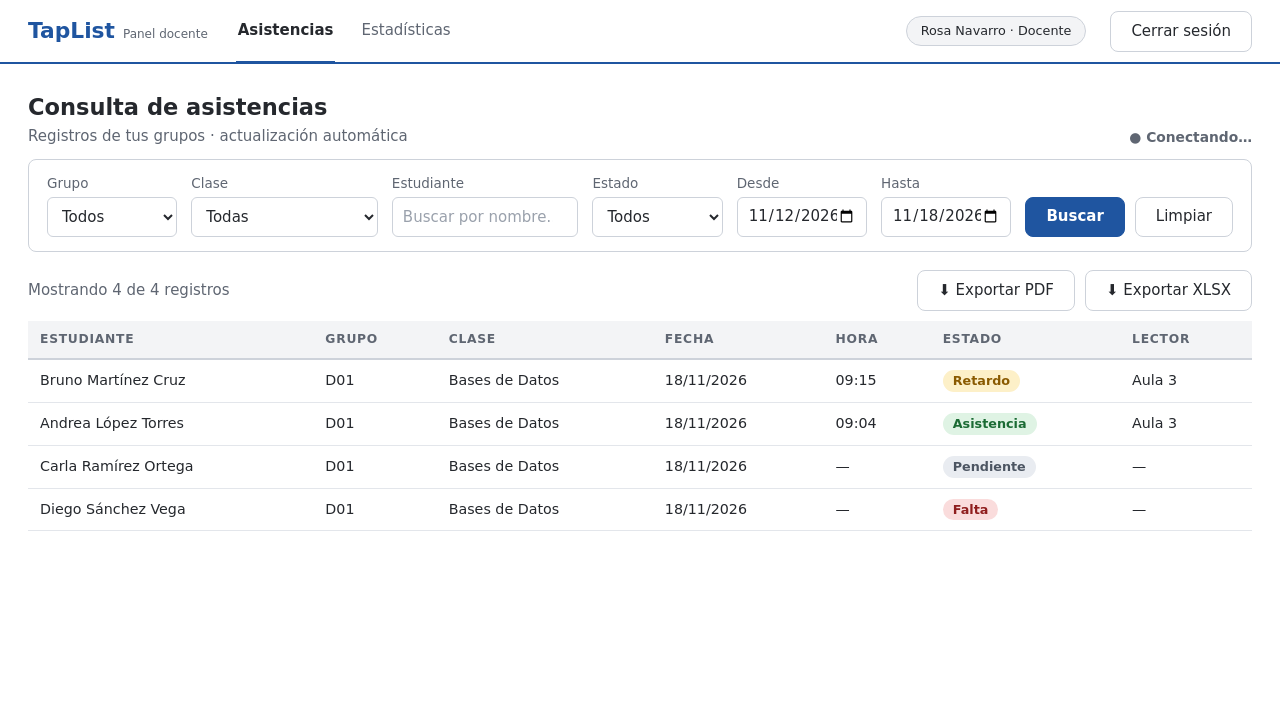
Test: P2 · Consulta de asistencias › «Hasta» antes que «Desde»: avisa y no consulta
Expected: the text "Mostrando 4 de 4 registros" is shown, x1=28 y1=280 x2=230 y2=301
Step 1. Type "2026-11-01" into the date field labelled "Hasta" → (946, 217), box x1=881 y1=197 x2=1011 y2=237
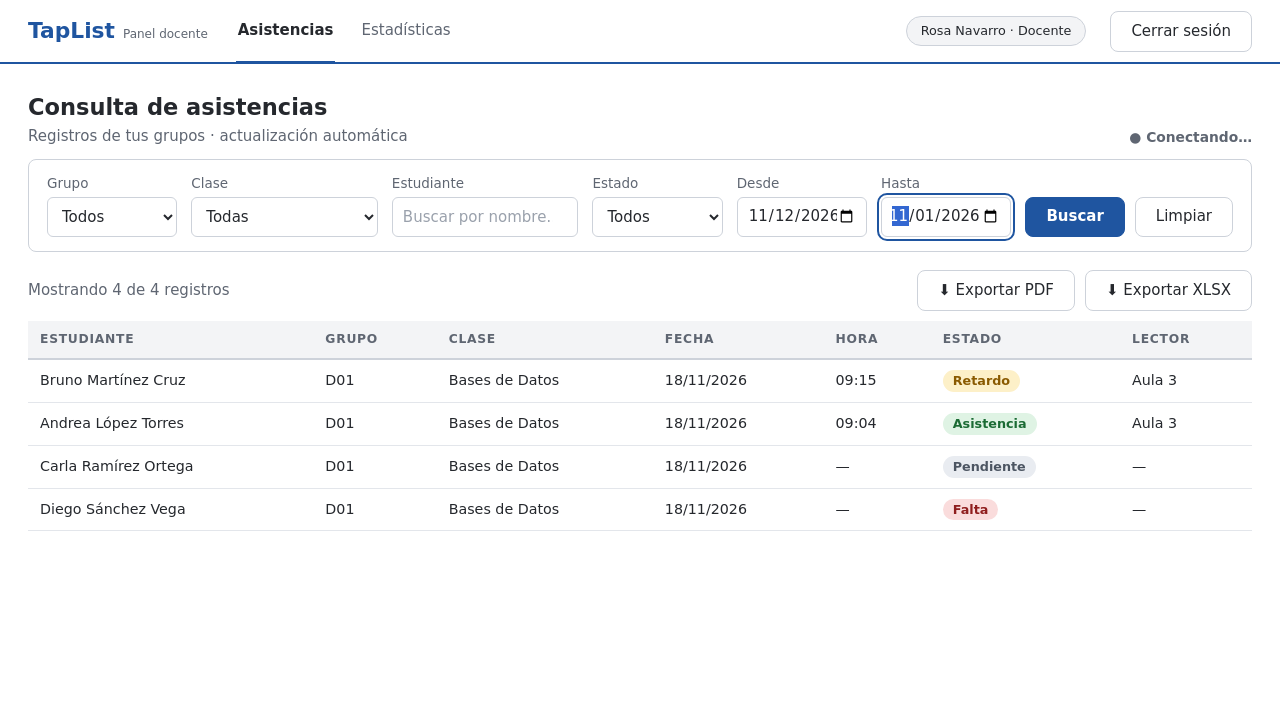
Step 2. Click the button "Buscar" → (1075, 217), box x1=1025 y1=197 x2=1125 y2=237
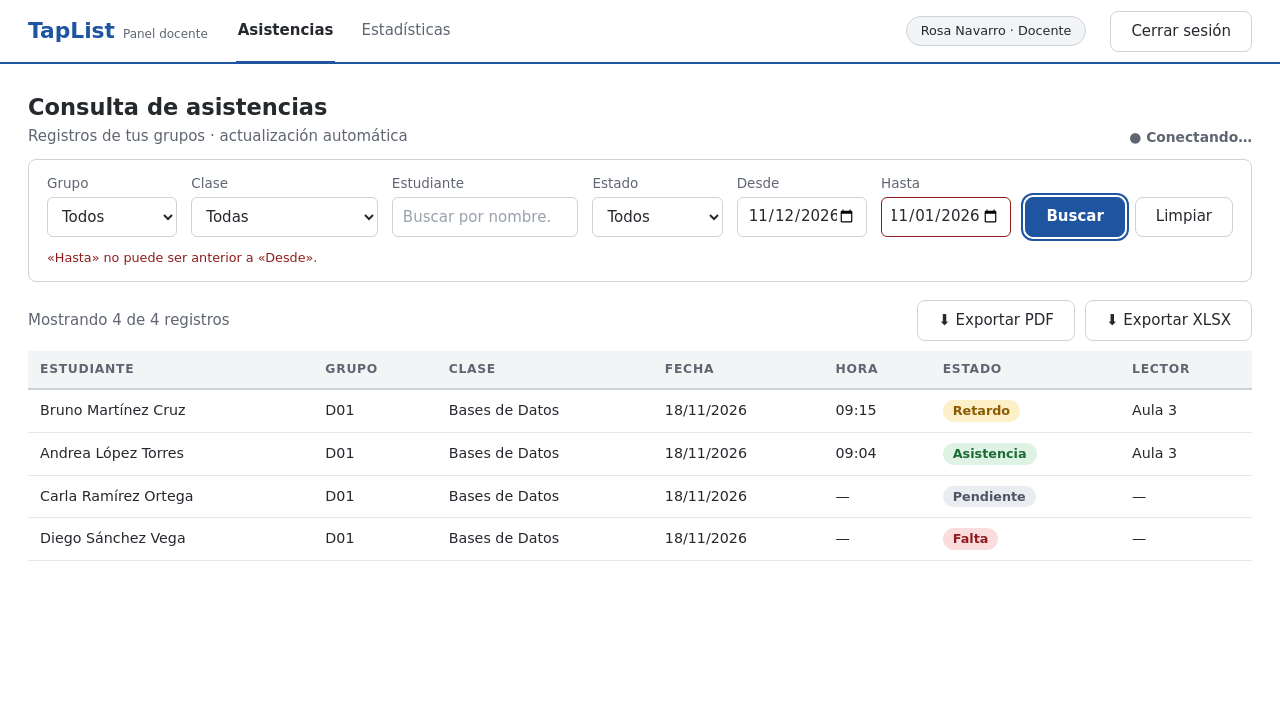
Expected: the text "«Hasta» no puede ser anterior a «Desde»." is shown, x1=47 y1=250 x2=317 y2=265
